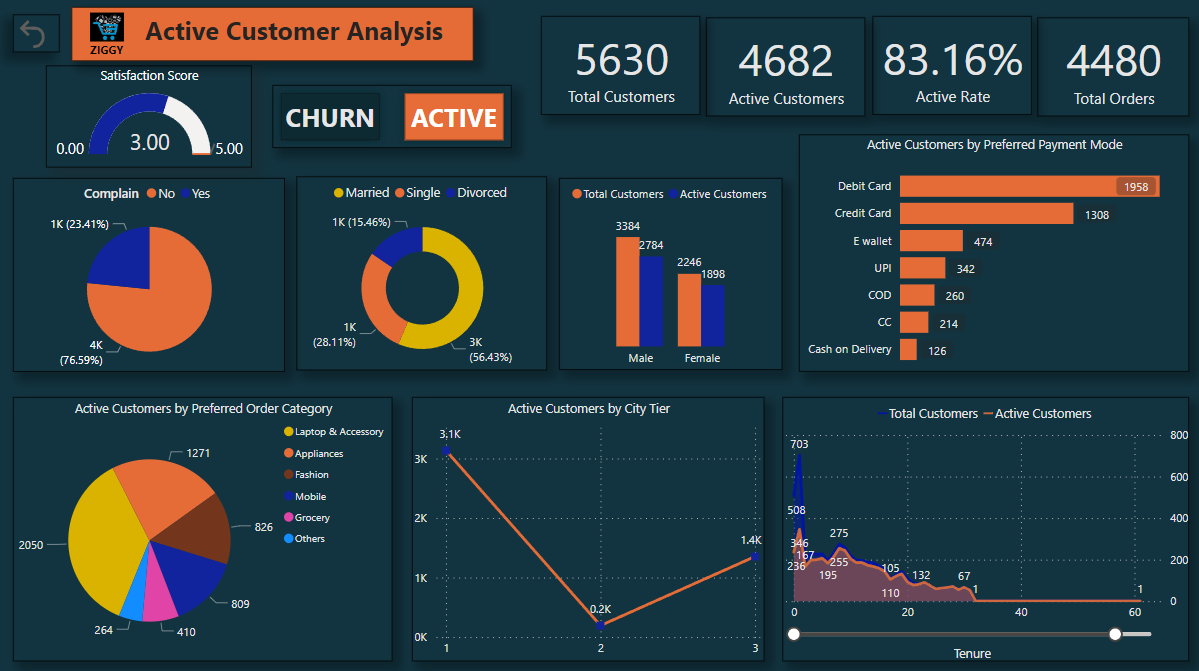

What the dashboard file says about the page in this screenshot:
{"tool":"powerbi","page":{"name":"ACTIVE","canvas":[1280,720],"ordinal":1},"visuals":[{"type":"textbox","box":[77.9,12.7,426,57.2],"z":0},{"type":"card","fields":{"Values":["Measure.Total Customers"]},"box":[575,22,168.5,104.9],"z":1000},{"type":"card","fields":{"Values":["Measure.Active Customer"]},"box":[750.5,23.8,168.5,104.9],"z":2000},{"type":"card","fields":{"Values":["Measure.Active Rate"]},"box":[926,22.3,168.5,104.9],"z":3000},{"type":"clusteredColumnChart","title":"Churn Customer Tenure ","fields":{"Category":["E Comm.Gender"],"Y":["CountNonNull(E Comm.CustomerID)","Measure.Active Customer"]},"box":[594.4,193.9,236.8,203.4],"z":4000},{"type":"gauge","title":"Satisfaction Score","fields":{"MaxValue":["Measure.Max Satisfaction Value"],"Y":["Measure.Average Satisfaction"],"TargetValue":["Max(E Comm.SatisfactionScore)"]},"box":[50.9,74.7,217.7,108.1],"z":5000},{"type":"pieChart","title":"Active Customers by Preferred Order Category","fields":{"Y":["Measure.Total Customers"],"Category":["E Comm.PreferedOrderCat"]},"box":[15.9,426,402.1,279.7],"z":6000},{"type":"pieChart","title":"Complain","fields":{"Category":["E Comm.Complain"],"Y":["Measure.Active Customer"]},"box":[15.9,193.9,287.7,205],"z":7000},{"type":"donutChart","fields":{"Category":["E Comm.MaritalStatus"],"Y":["Measure.Active Customer"]},"box":[316.3,192.3,265.4,205],"z":8000},{"type":"lineChart","title":"Active Customers by City Tier","fields":{"Category":["E Comm.CityTier"],"Y":["Measure.Active Customer"]},"box":[437.9,426,373.5,279.7],"z":9000},{"type":"clusteredBarChart","title":"Active Customers by Preferred Payment Mode","fields":{"Category":["E Comm.PreferredPaymentMode"],"Y":["Measure.Active Customer"]},"box":[848.7,147.8,413.2,251.1],"z":10000},{"type":"actionButton","box":[15.9,20.7,49.3,39.7],"z":11000},{"type":"image","box":[92.2,7.9,46.1,52.5],"z":12000},{"type":"textbox","box":[77.9,42.9,74.7,33.4],"z":13000},{"type":"pageNavigator","box":[291,95,253,66.8],"z":14000},{"type":"areaChart","title":"Churn Customer Tenure ","fields":{"Category":["E Comm.Tenure"],"Y":["Measure.Total Customers","Measure.Active Customer"]},"box":[831.3,426,430.7,279.7],"z":15000},{"type":"card","fields":{"Values":["CountNonNull(E Comm.OrderCount)"]},"box":[1101.5,23.8,160.5,104.9],"z":16000}]}

Visuals, with their boxes on the page's 1280x720 design canvas (x1, y1, x2, y2). These are canvas units, not pixel positions in the 1199x671 screenshot, which may show the page scaled, cropped or inside an application window:
textbox: [78, 13, 504, 70]
card - Measure.Total Customers: [575, 22, 744, 127]
card - Measure.Active Customer: [750, 24, 919, 129]
card - Measure.Active Rate: [926, 22, 1094, 127]
"Churn Customer Tenure " clusteredColumnChart: [594, 194, 831, 397]
"Satisfaction Score" gauge: [51, 75, 269, 183]
"Active Customers by Preferred Order Category" pieChart: [16, 426, 418, 706]
"Complain" pieChart: [16, 194, 304, 399]
donutChart - E Comm.MaritalStatus x Measure.Active Customer: [316, 192, 582, 397]
"Active Customers by City Tier" lineChart: [438, 426, 811, 706]
"Active Customers by Preferred Payment Mode" clusteredBarChart: [849, 148, 1262, 399]
actionButton: [16, 21, 65, 60]
image: [92, 8, 138, 60]
textbox: [78, 43, 153, 76]
pageNavigator: [291, 95, 544, 162]
"Churn Customer Tenure " areaChart: [831, 426, 1262, 706]
card - CountNonNull(E Comm.OrderCount): [1102, 24, 1262, 129]
